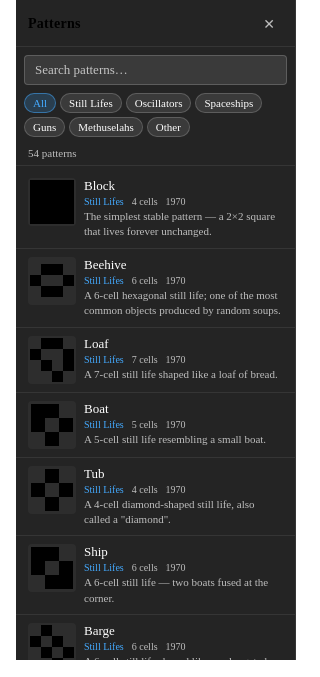
Test case: PatternLibrary — search › shows empty message when no patterns match
The image size is (320, 677).
Type "zzznomatch999" into the search field with placeholder "Search patterns…" at (156, 70), box [24,55,287,85]
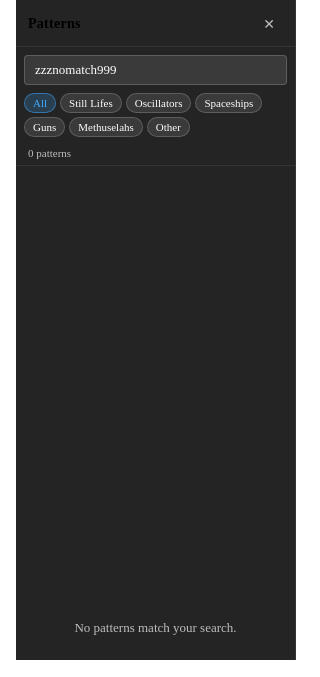
Result: the text "No patterns match your search." is shown at [74,620,237,635]
Result: no list items are shown
